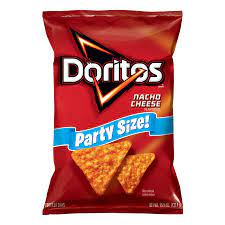Doritos: (42, 6, 185, 217)
